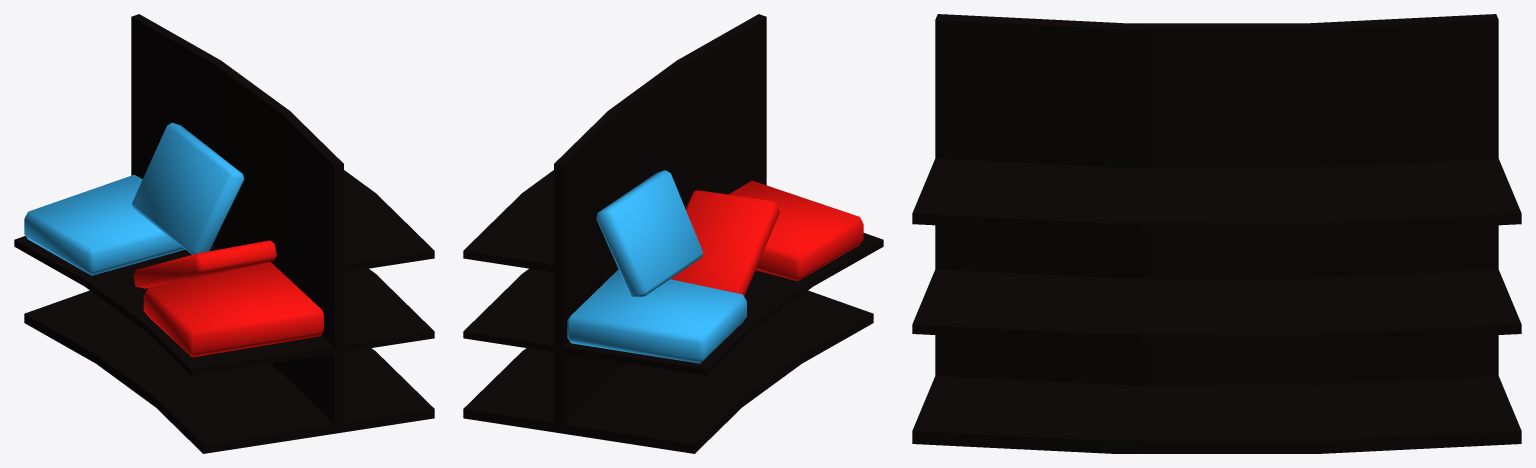
The model's file is BanBliothèque_Pattern2.FBX.
The picture shows the model from 3 angles, left to right: view 1: azimuth 30°, elevation 25°; view 2: azimuth 150°, elevation 25°; view 3: azimuth 270°, elevation 25°; orthographic projection. The views are drawn at different scales.
Visible parts, largest first — view 1: Box001; view 2: Box001; view 3: Box001.
Boxes of the visible parts, box(x1,y1,x2,y2) form: Box001: box(14, 14, 434, 453); Box001: box(463, 14, 883, 453); Box001: box(912, 14, 1521, 453).
Bounding box in the file's own units: 82.99 × 90.06 × 135.
